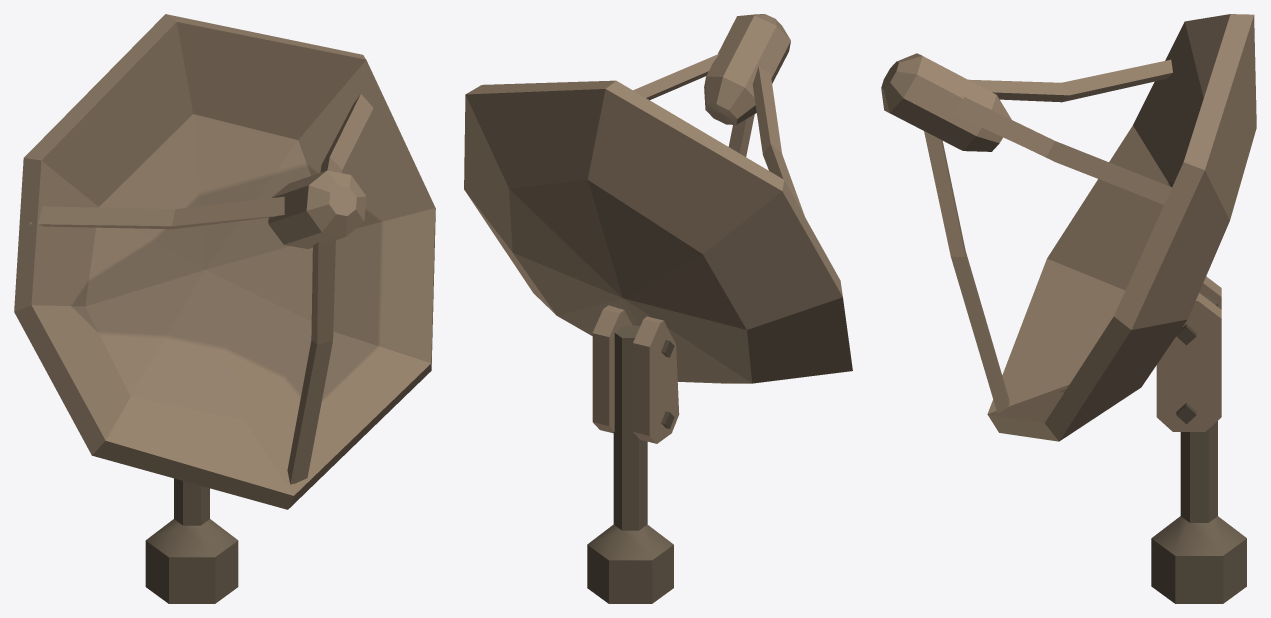
The model's file is SM_Prop_Satellite_Dish_04.glb.
3 views of the same model, side by side, from view 1: azimuth 30°, elevation 25°; view 2: azimuth 150°, elevation 25°; view 3: azimuth 270°, elevation 25° (orthographic). The views are drawn at different scales.
Parts seen in each view (by area): view 1: SM_Prop_Satellite_Dish_04; view 2: SM_Prop_Satellite_Dish_04; view 3: SM_Prop_Satellite_Dish_04.
Part boxes in pixels (bbox=[...]): SM_Prop_Satellite_Dish_04: bbox=[14, 14, 435, 603]; SM_Prop_Satellite_Dish_04: bbox=[464, 14, 852, 603]; SM_Prop_Satellite_Dish_04: bbox=[881, 14, 1256, 603].
Size of the model in its own units: 1.18 by 1.51 by 0.8953.
1 material, 1 textured.
